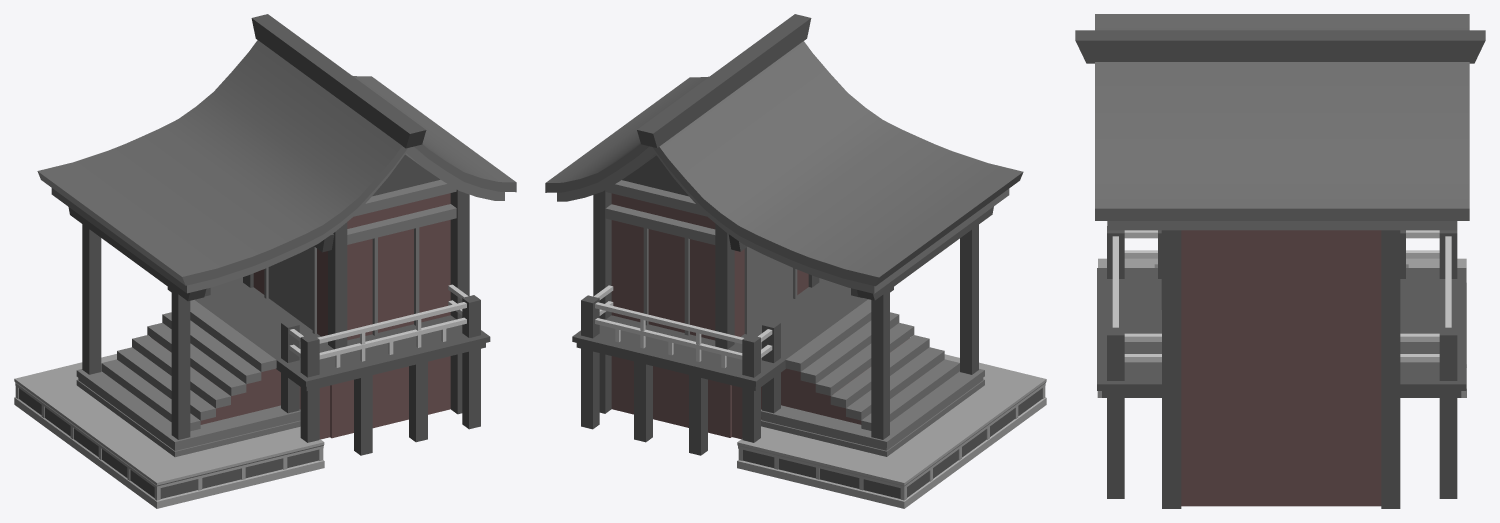
File: Shrine not combined.fbx
The picture shows the model from 3 angles, left to right: view 1: azimuth 30°, elevation 25°; view 2: azimuth 150°, elevation 25°; view 3: azimuth 270°, elevation 25°; orthographic projection. The views are drawn at different scales.
Parts seen in each view (by area): view 1: pPlane5, pCube260, pCube237, pCube319, pCube322, pCube247, pCube317, pCube321, pCube316, pCube261, pCube295, pCube318 (+4 smaller); view 2: pPlane5, pCube260, pCube237, pCube319, pCube322, pCube247, pCube317, pCube321, pCube316, pCube261, pCube295, pCube318 (+3 smaller); view 3: pPlane5, pCube260, pCube247, pCube319, pCube317, pCube316, pCube237, pCube248.
Part boxes in pixels (bbox=[...]): pPlane5: bbox=[37, 14, 516, 293]; pCube260: bbox=[253, 154, 450, 438]; pCube237: bbox=[14, 354, 324, 508]; pCube319: bbox=[82, 190, 469, 439]; pCube322: bbox=[101, 300, 276, 431]; pCube247: bbox=[194, 277, 490, 386]; pCube317: bbox=[204, 288, 480, 455]; pCube321: bbox=[76, 364, 300, 457]; pCube316: bbox=[289, 284, 468, 367]; pCube261: bbox=[153, 339, 330, 439]; pCube295: bbox=[347, 204, 456, 244]; pCube318: bbox=[264, 227, 419, 335]; pPlane5: bbox=[545, 14, 1023, 293]; pCube260: bbox=[611, 155, 808, 437]; pCube237: bbox=[737, 354, 1046, 508]; pCube319: bbox=[593, 190, 978, 439]; pCube322: bbox=[785, 299, 959, 430]; pCube247: bbox=[572, 278, 867, 386]; pCube317: bbox=[581, 288, 862, 455]; pCube321: bbox=[761, 369, 984, 456]; pCube316: bbox=[594, 285, 772, 368]; pCube261: bbox=[732, 338, 909, 439]; pCube295: bbox=[605, 204, 715, 244]; pCube318: bbox=[643, 228, 797, 335]; pPlane5: bbox=[1075, 14, 1485, 230]; pCube260: bbox=[1181, 230, 1381, 506]; pCube247: bbox=[1097, 268, 1466, 390]; pCube319: bbox=[1161, 230, 1400, 508]; pCube317: bbox=[1107, 226, 1457, 498]; pCube316: bbox=[1112, 230, 1451, 362]; pCube237: bbox=[1097, 258, 1466, 397]; pCube248: bbox=[1102, 391, 1461, 397].
Size of the model in its own units: 457 by 395 by 350.
